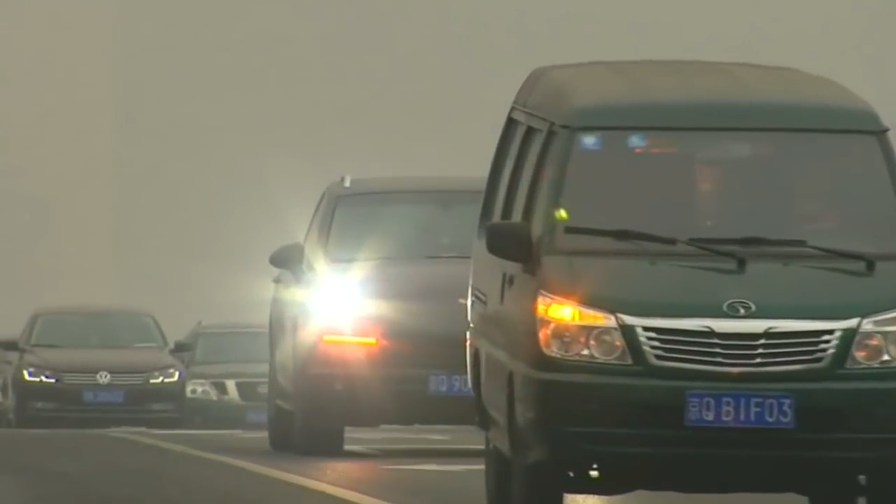car: (461, 57, 896, 504), (262, 171, 594, 456), (1, 301, 196, 427), (168, 317, 336, 434)
